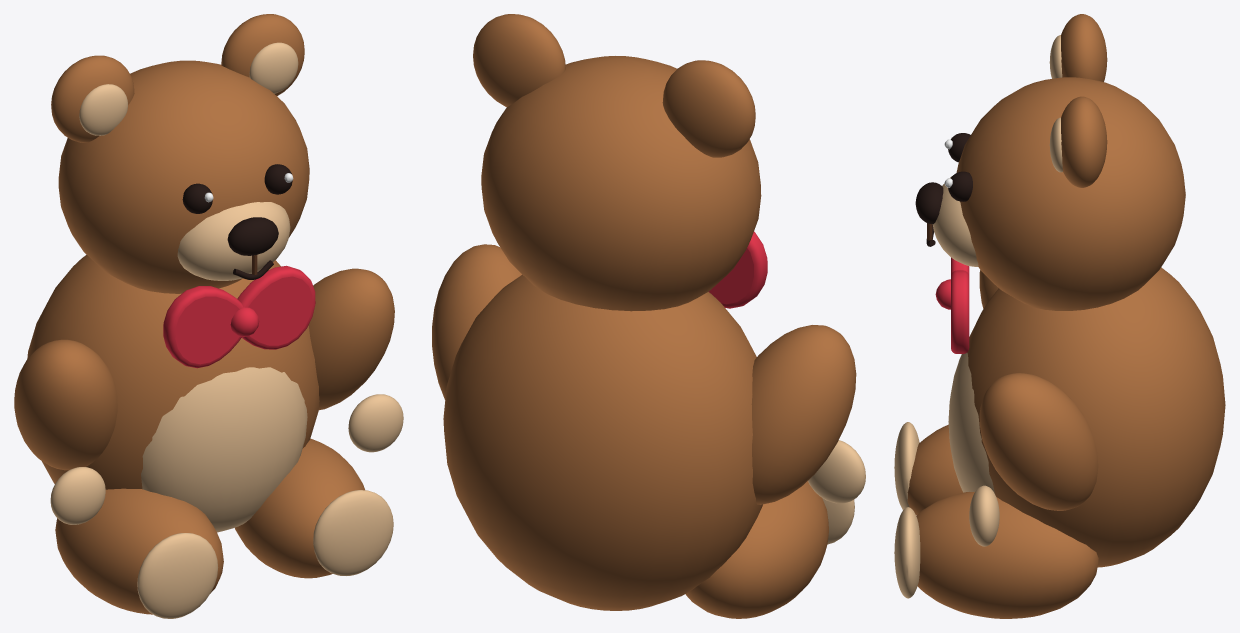
The model's file is TeddyBear.fbx.
3 renders of one model, left to right at view 1: azimuth 30°, elevation 25°; view 2: azimuth 150°, elevation 25°; view 3: azimuth 270°, elevation 25°, orthographic. The views are drawn at different scales.
Parts seen in each view (by area): view 1: Fur, LightFur, Bow, Nose; view 2: Fur, LightFur, Bow; view 3: Fur, LightFur, Bow, Nose.
Boxes of the visible parts, bbox=[...] form: Fur: bbox=[14, 14, 394, 614]; LightFur: bbox=[50, 42, 403, 618]; Bow: bbox=[163, 265, 315, 368]; Nose: bbox=[182, 164, 292, 279]; Fur: bbox=[432, 14, 856, 618]; LightFur: bbox=[808, 440, 865, 544]; Bow: bbox=[709, 231, 767, 308]; Fur: bbox=[907, 14, 1225, 618]; LightFur: bbox=[894, 35, 1062, 598]; Bow: bbox=[935, 257, 969, 353]; Nose: bbox=[915, 133, 972, 246].
Size of the model in its own units: 137 by 186 by 108.
